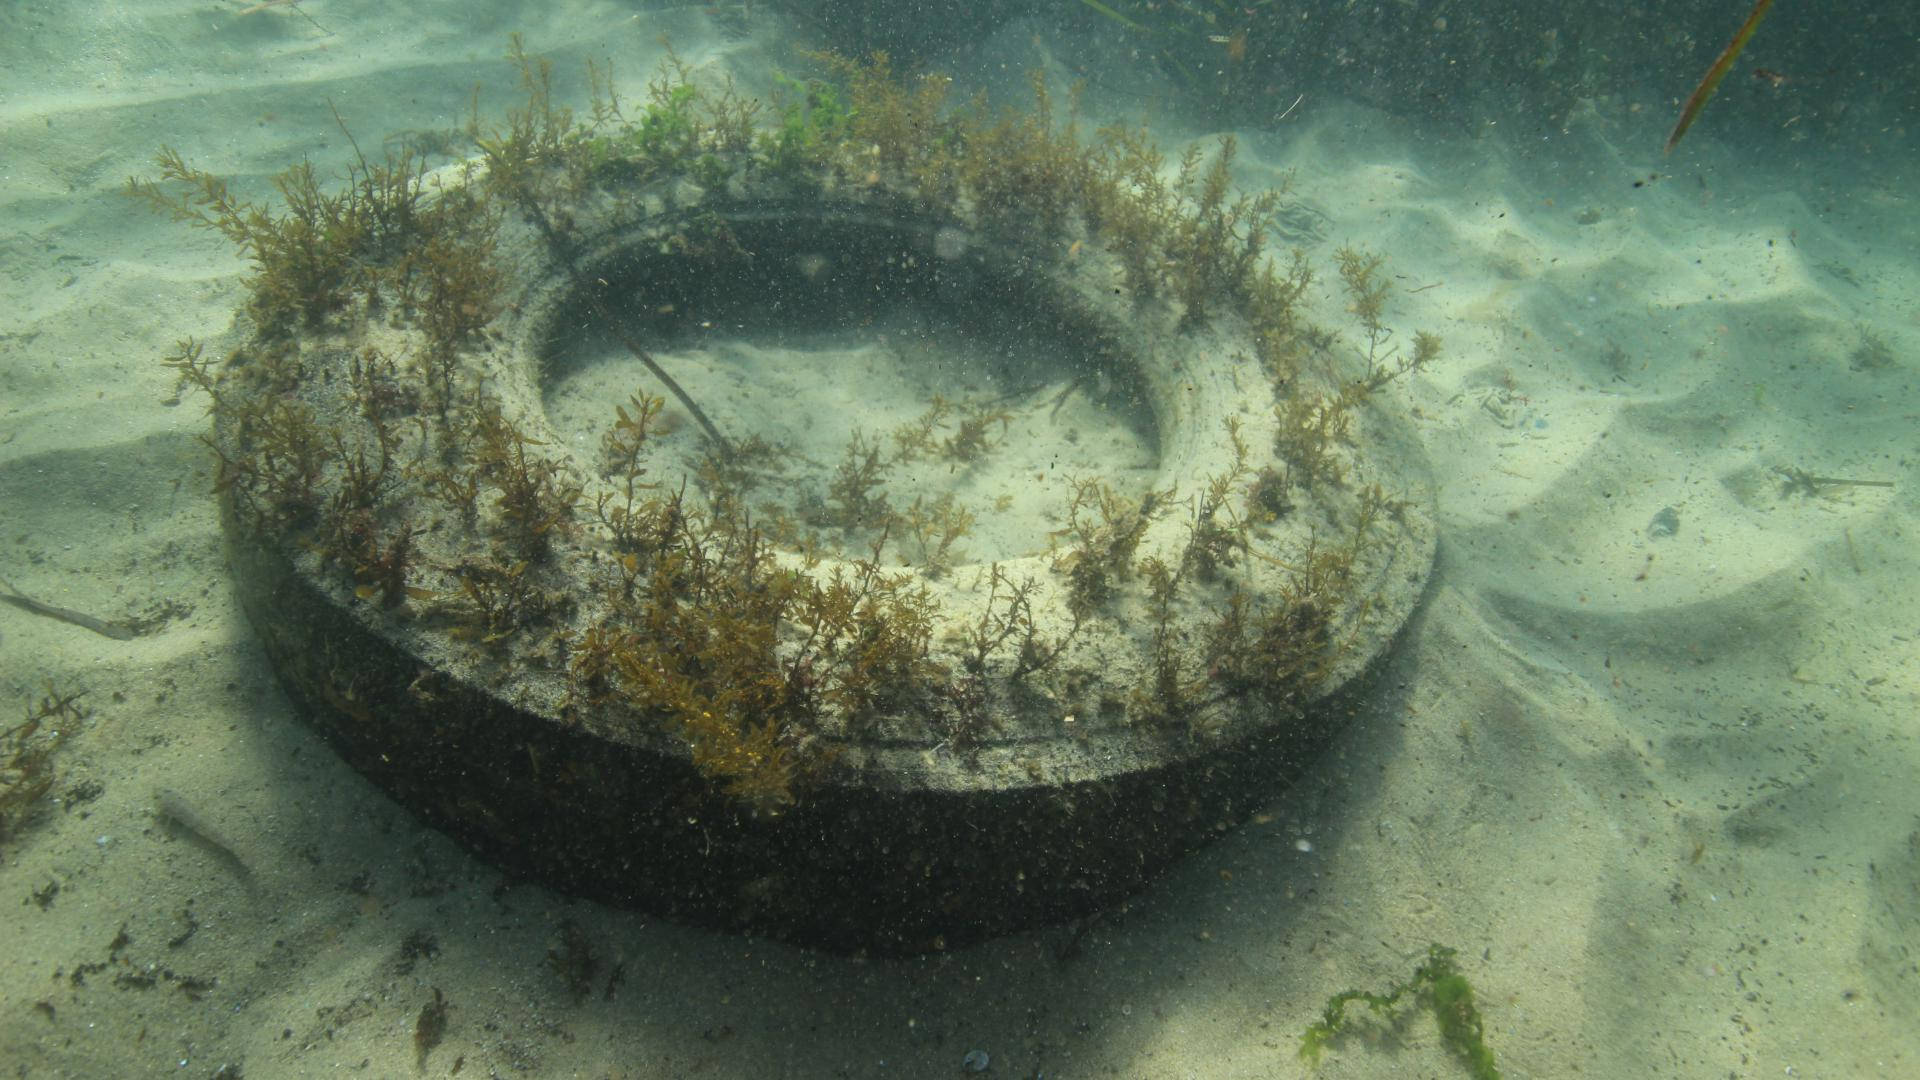tire: (208, 120, 1440, 960)
